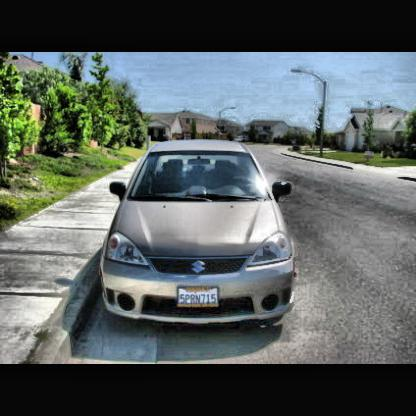Suzuki Aerio Sedan 2007: (99, 137, 299, 323)
